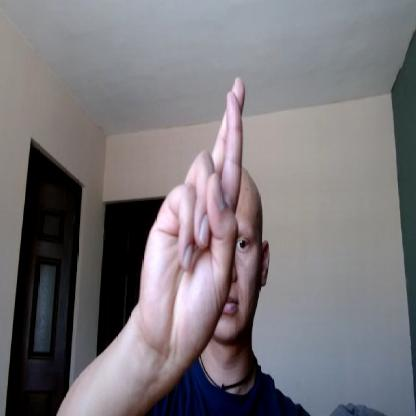R: (138, 73, 246, 366)
